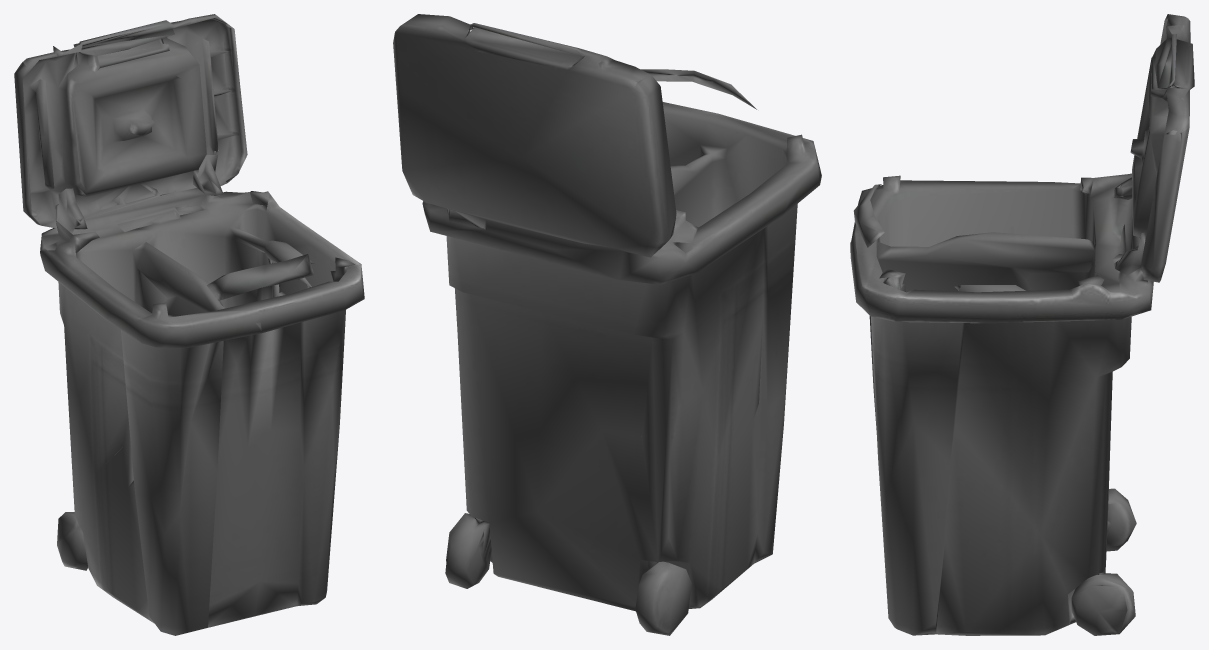
The model's file is biohazard_bin.glb.
3 views of the same model, side by side, from view 1: azimuth 30°, elevation 25°; view 2: azimuth 150°, elevation 25°; view 3: azimuth 270°, elevation 25° (orthographic). The views are drawn at different scales.
Parts seen in each view (by area): view 1: Model; view 2: Model; view 3: Model.
Boxes of the visible parts, bbox=[...] form: Model: bbox=[14, 14, 364, 635]; Model: bbox=[393, 14, 821, 635]; Model: bbox=[850, 14, 1194, 635].
Bounding box in the file's own units: 0.4358 × 0.8996 × 0.5222.
1 material, 1 textured.
